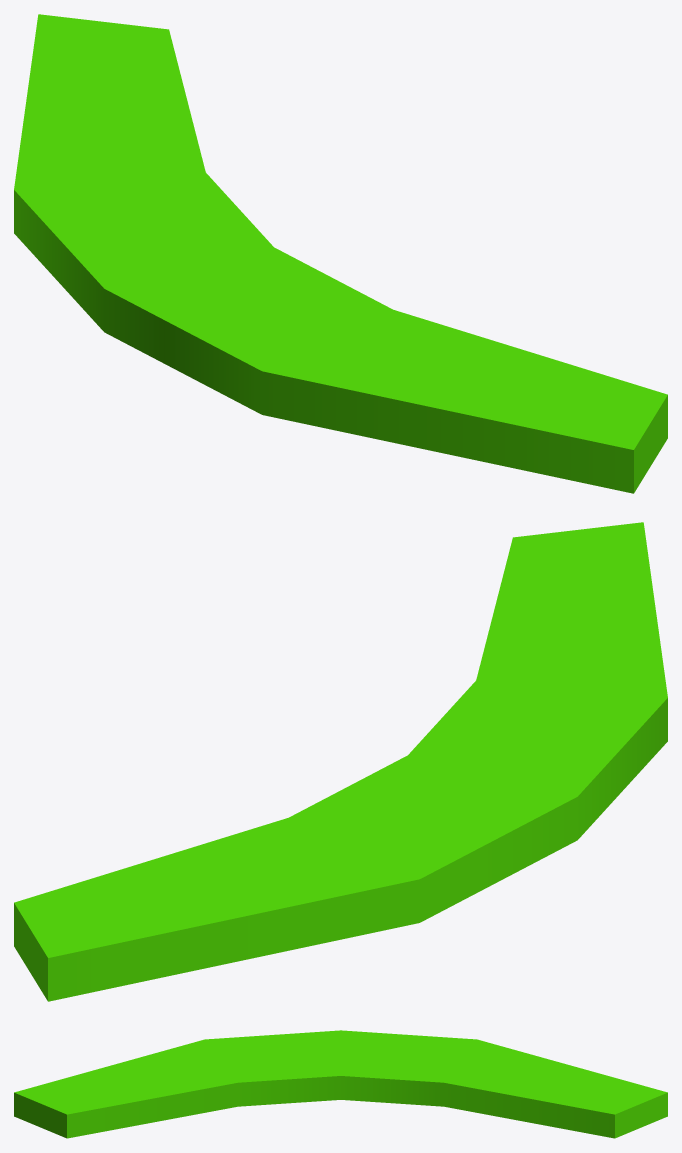
Rendered from shtuka_7.fbx.
3 renders of one model, top to bottom at view 1: azimuth 30°, elevation 25°; view 2: azimuth 150°, elevation 25°; view 3: azimuth 270°, elevation 25°, orthographic. The views are drawn at different scales.
Visible parts, largest first — view 1: shtuka.001; view 2: shtuka.001; view 3: shtuka.001.
Boxes of the visible parts, box(x1,y1,x2,y2) form: shtuka.001: box(14, 14, 667, 493); shtuka.001: box(14, 522, 667, 1001); shtuka.001: box(14, 1030, 667, 1138).
Bounding box in the file's own units: 8.75 × 1.16 × 28.72.
